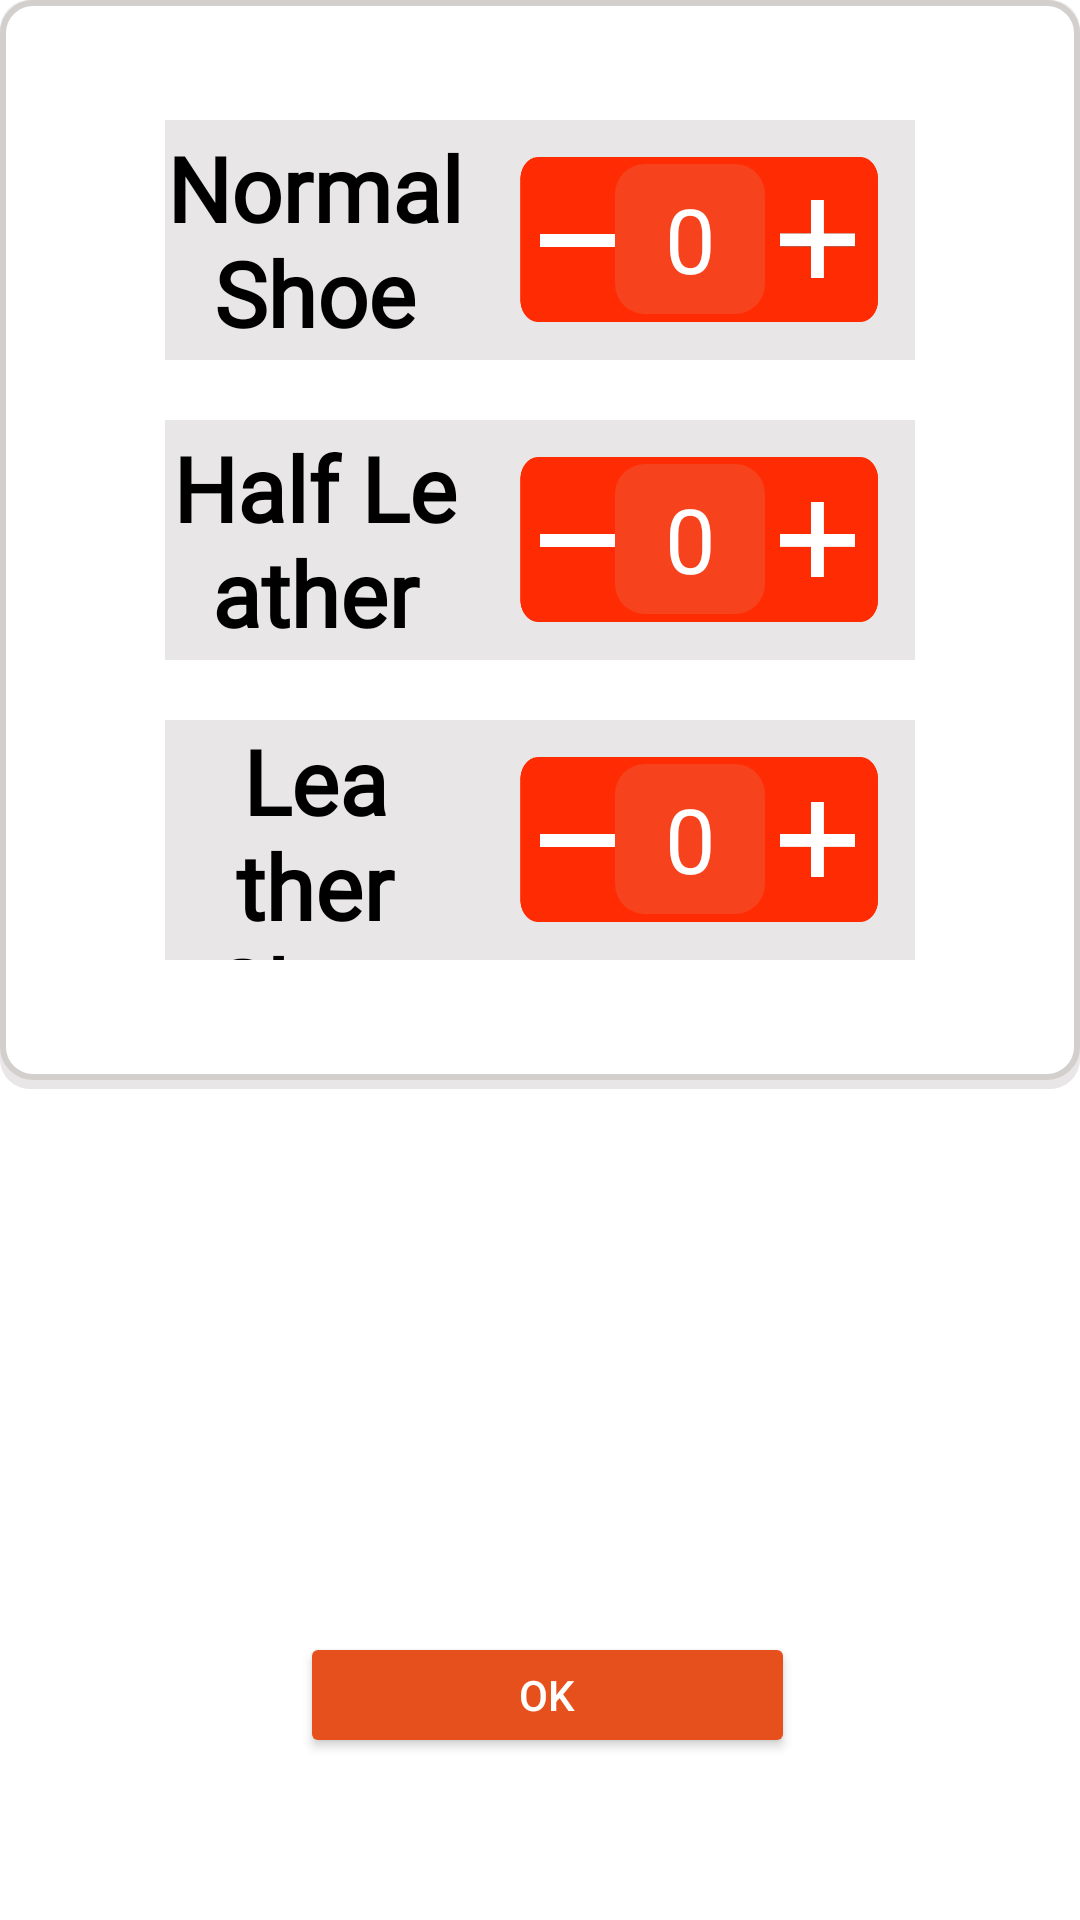

Named icons in this screenshot (1080px×1920px) and their centers, [x,y]:
plus: [817,239], [817,539], [817,839]
